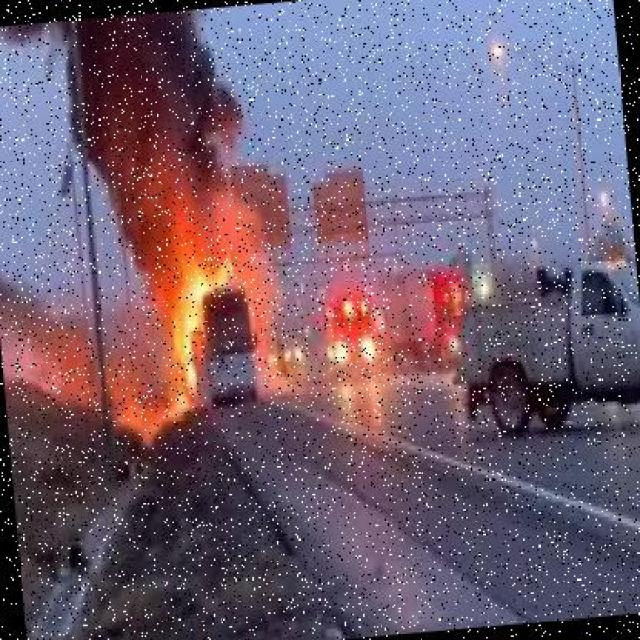fire: (134, 225, 260, 420)
